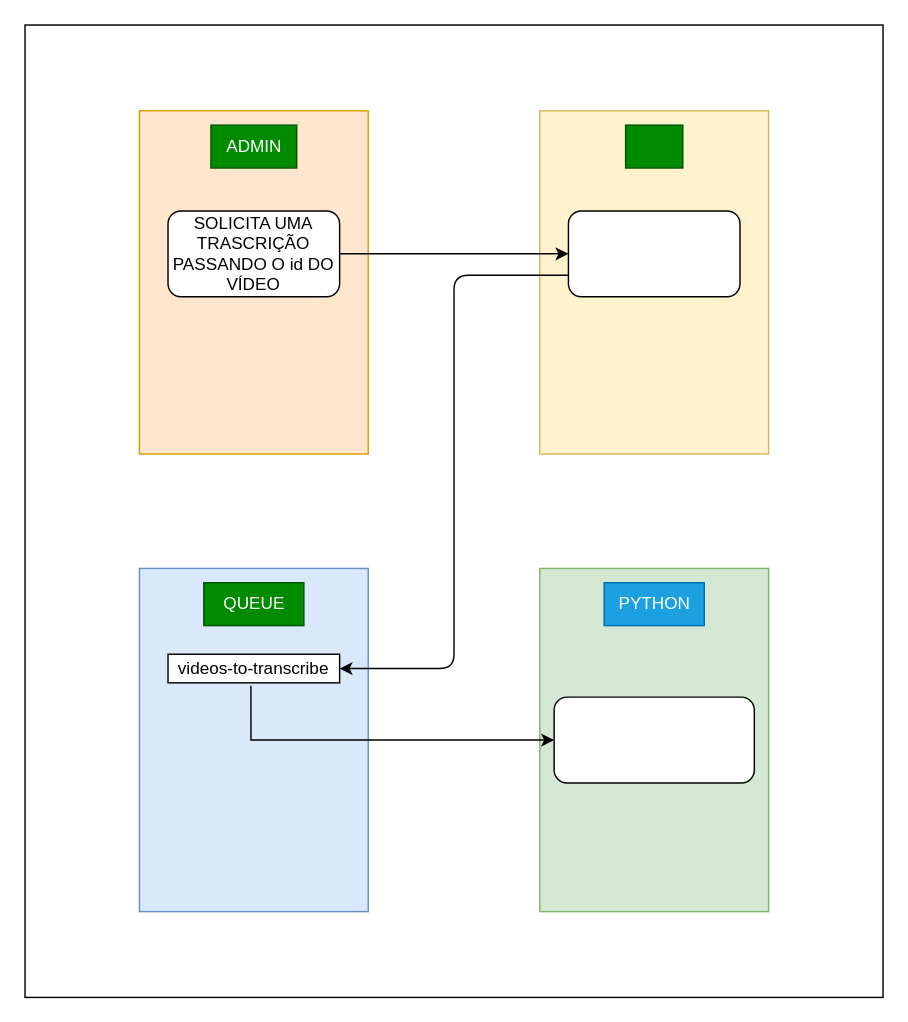
Image size: 908x1022. Some labels were removed from this diagram. Here are the shapes that lost their labels. From the top down, the centre of each, then its label:
(x=653, y=146): API
(x=653, y=253): Vai no Banco e pega a URL do Vídeo e coloca na fila
(x=653, y=739): Vai na queue verificar se tem alguma tarefa pendente
